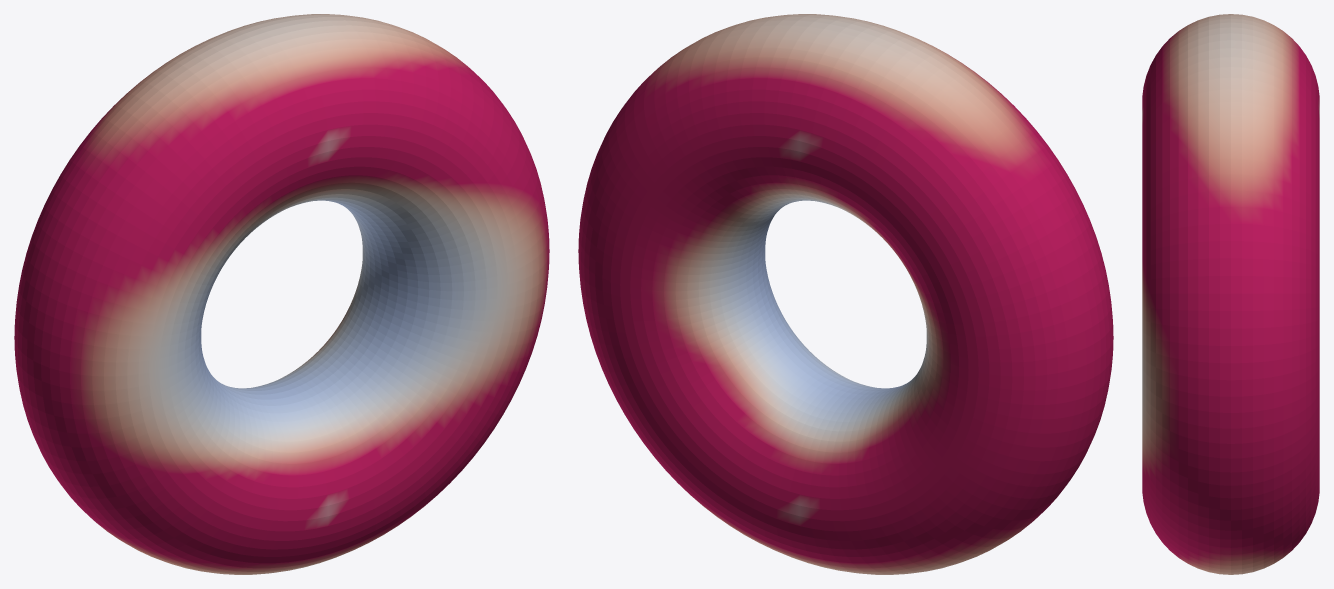
3 renders of one model, left to right at view 1: azimuth 30°, elevation 25°; view 2: azimuth 150°, elevation 25°; view 3: azimuth 270°, elevation 25°, orthographic. The views are drawn at different scales.
Visible parts, largest first — view 1: world; view 2: world; view 3: world.
Boxes of the visible parts, box(x1,y1,x2,y2) form: world: box(14, 14, 549, 574); world: box(578, 14, 1113, 574); world: box(1142, 14, 1319, 574).
Bounding box in the file's own units: 27.33 × 27.33 × 8.65.
